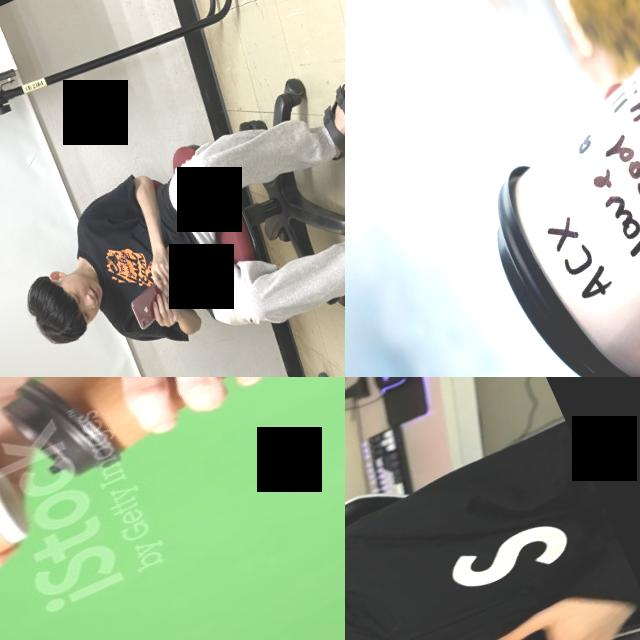cup: (441, 5, 640, 377), (0, 377, 309, 496)
